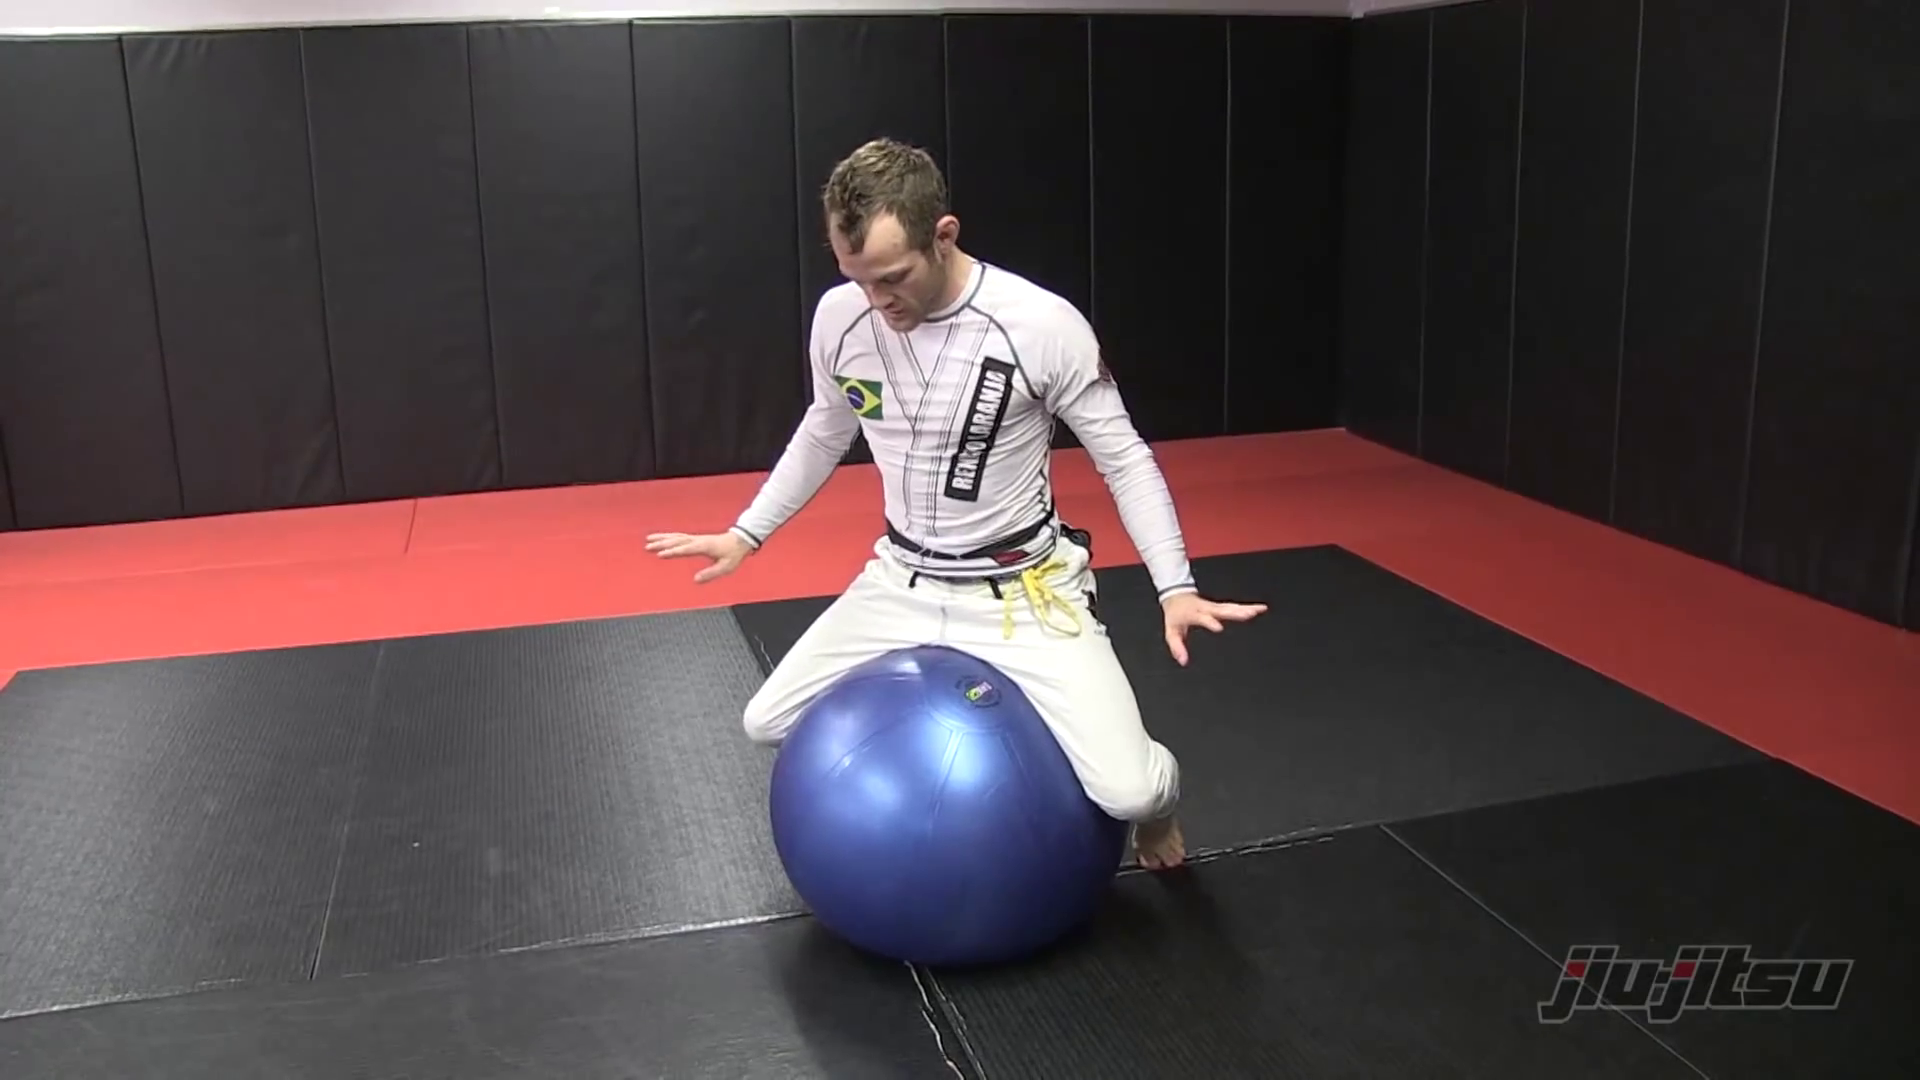yogaball: (760, 646, 1154, 976)
